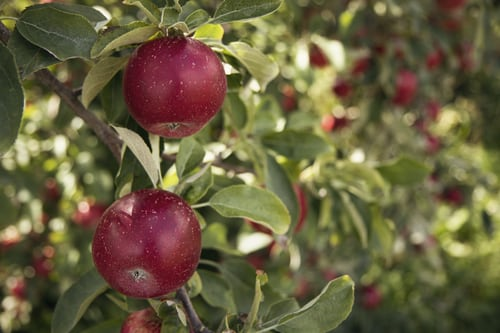apple: (91, 188, 201, 299), (120, 32, 229, 141)
